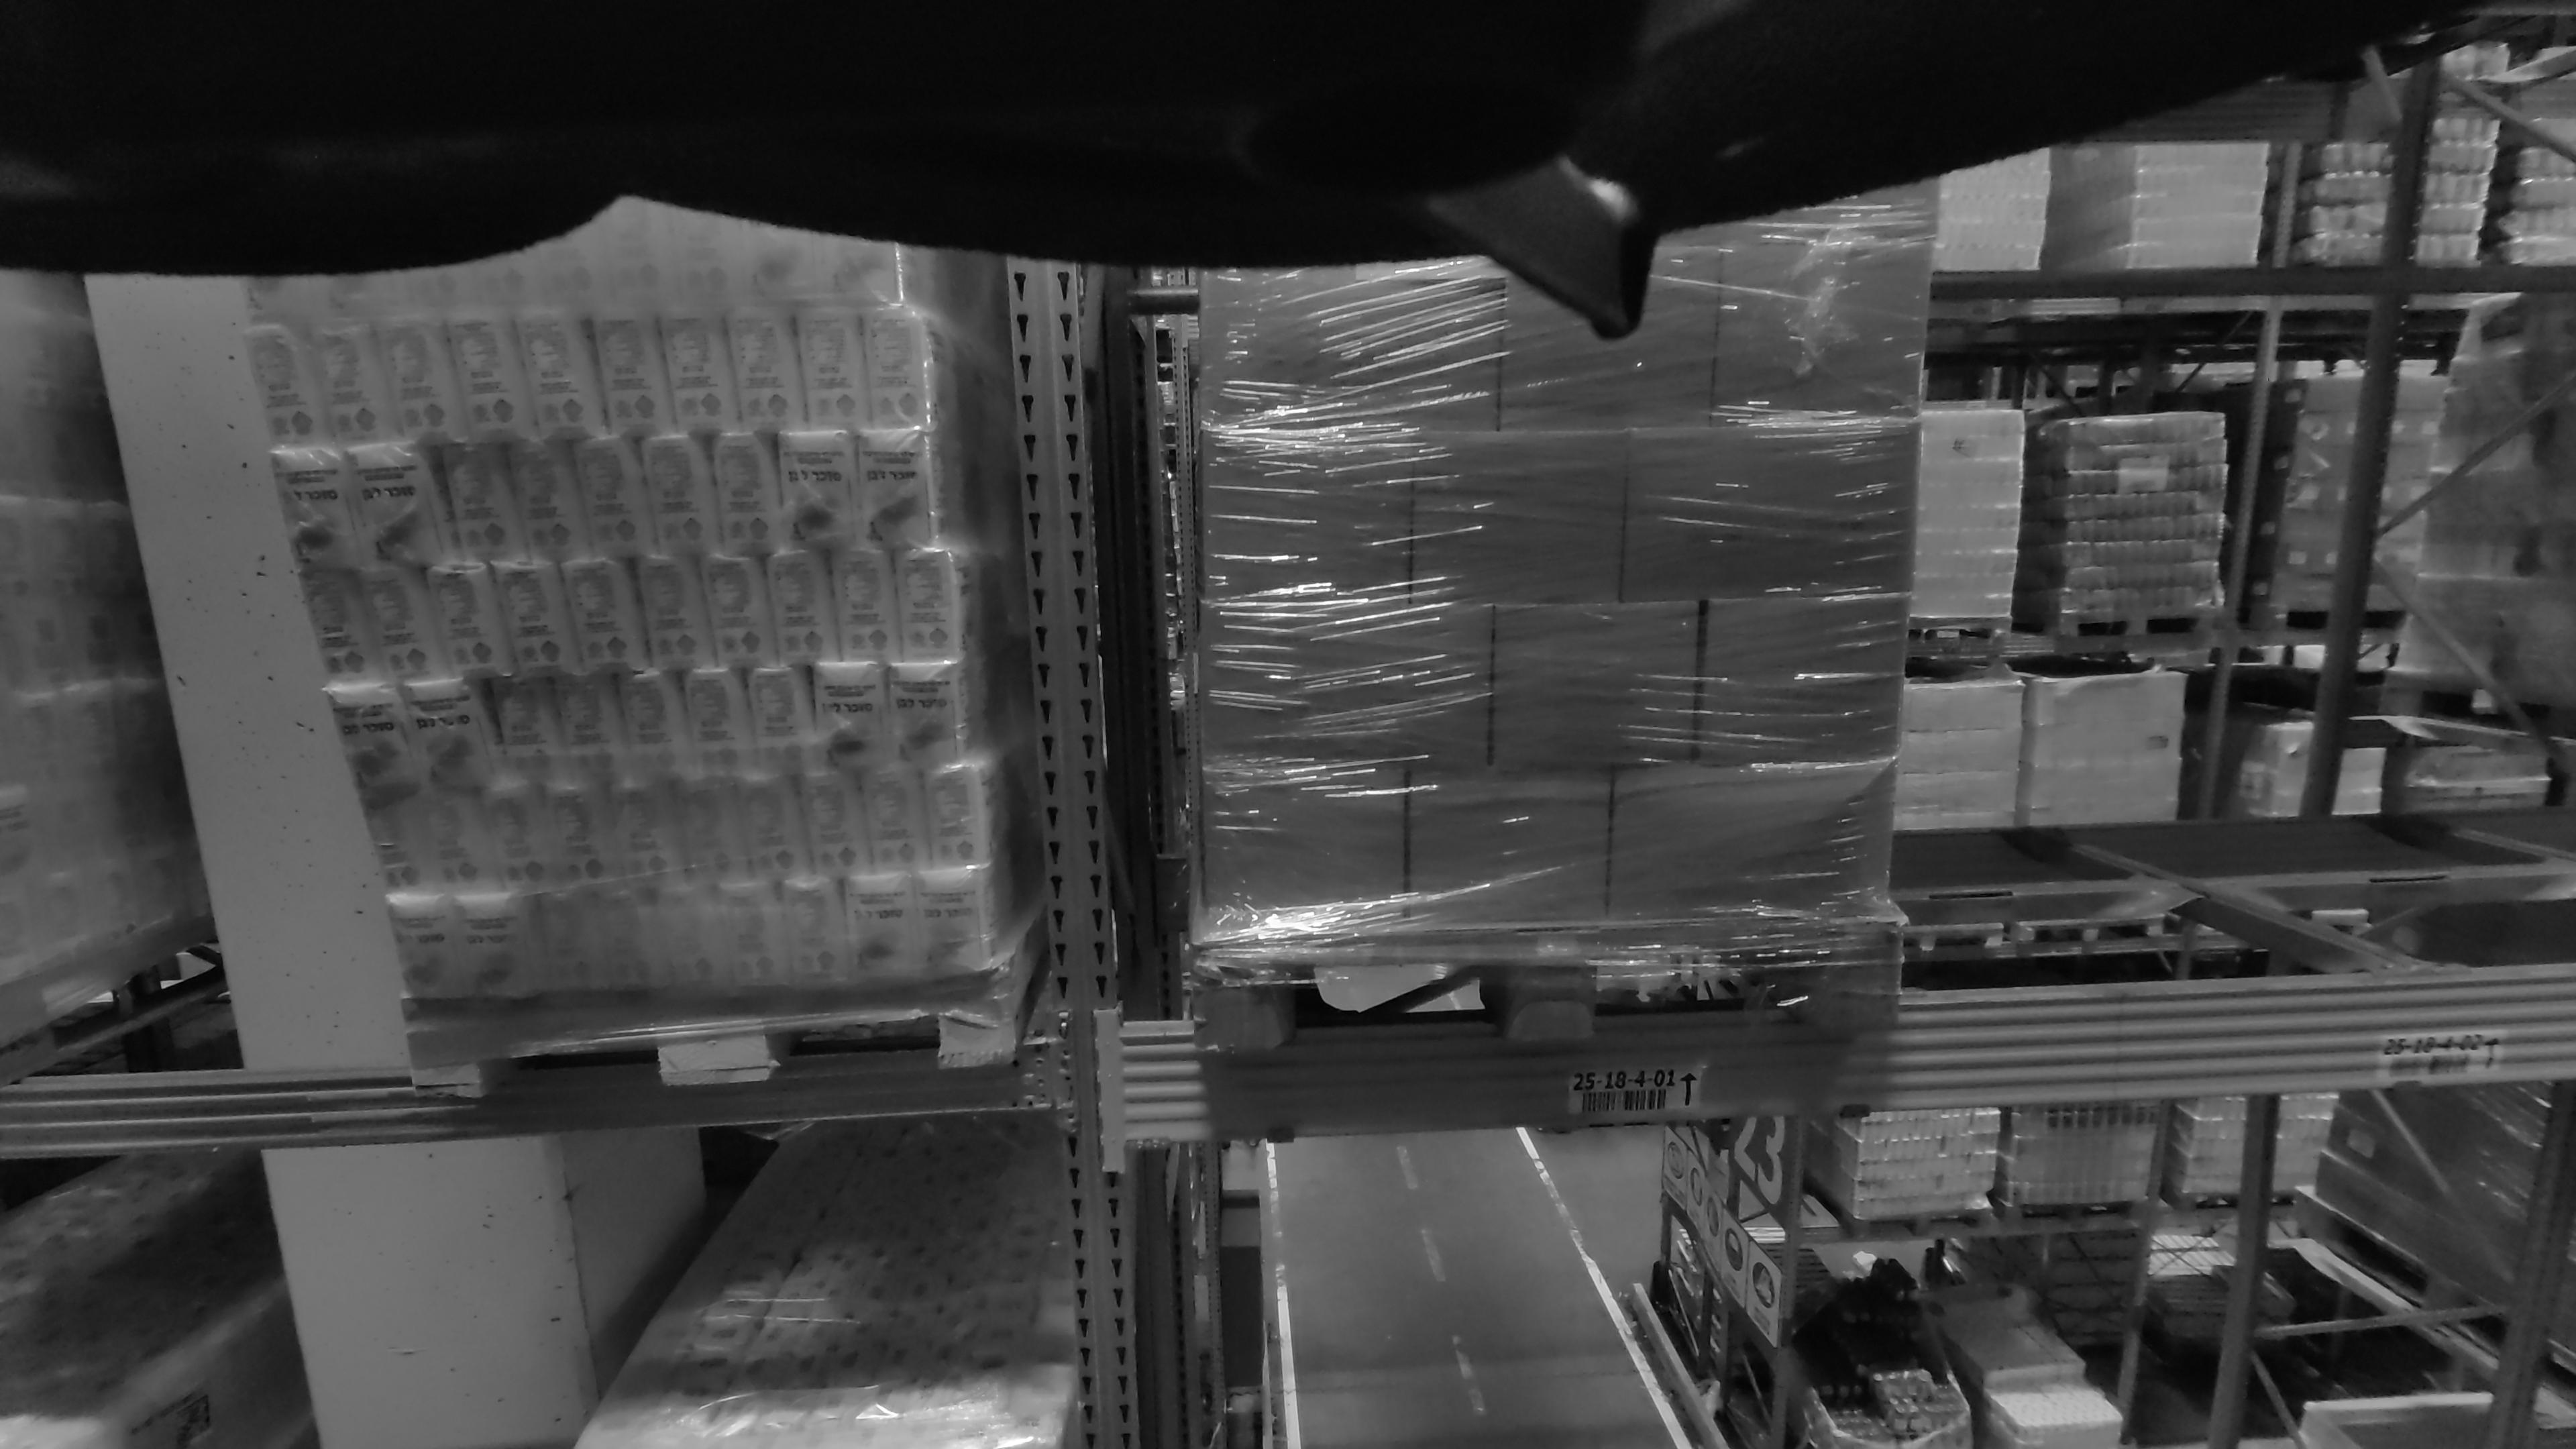empty-shelf: (1959, 124, 2576, 973)
